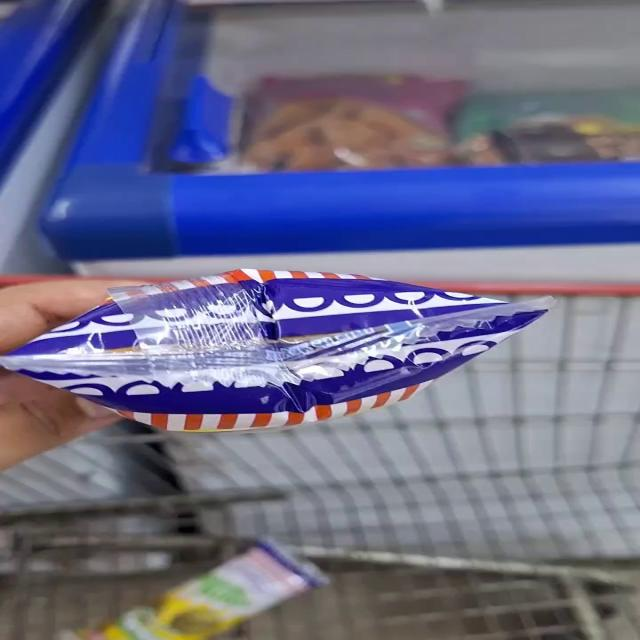Roti: (62, 277, 517, 423), (86, 535, 355, 640)
